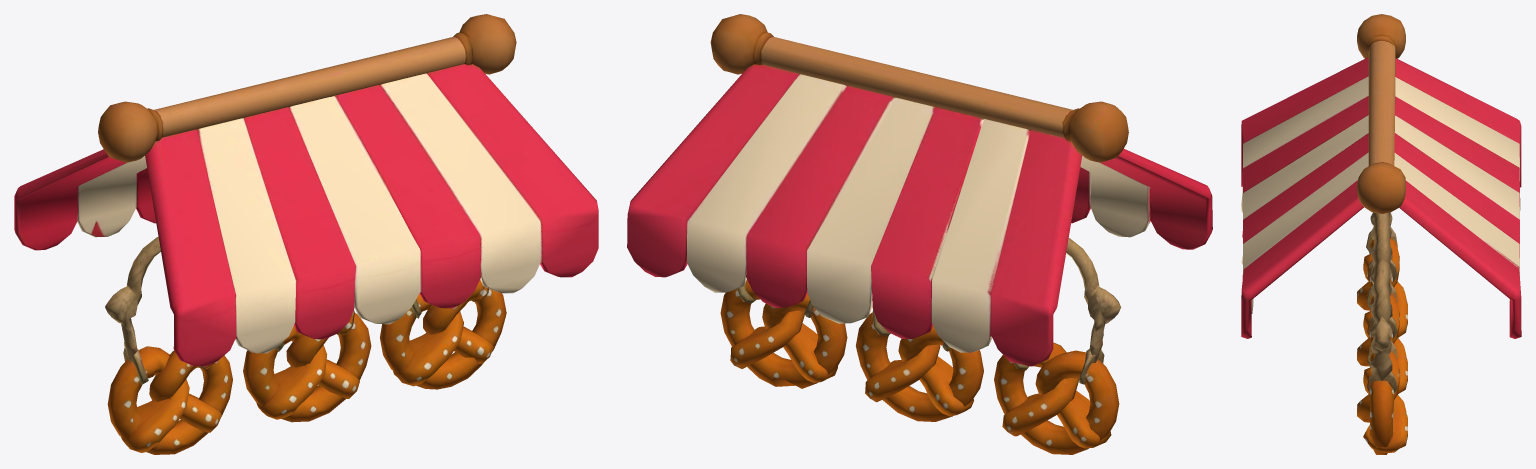
The model's file is bakery-oven-hood.glb.
3 views of the same model, side by side, from view 1: azimuth 30°, elevation 25°; view 2: azimuth 150°, elevation 25°; view 3: azimuth 270°, elevation 25° (orthographic). The views are drawn at different scales.
Size of the model in its own units: 0.957 by 0.772 by 0.6469.
Materials: 1 (1 with a texture image).
